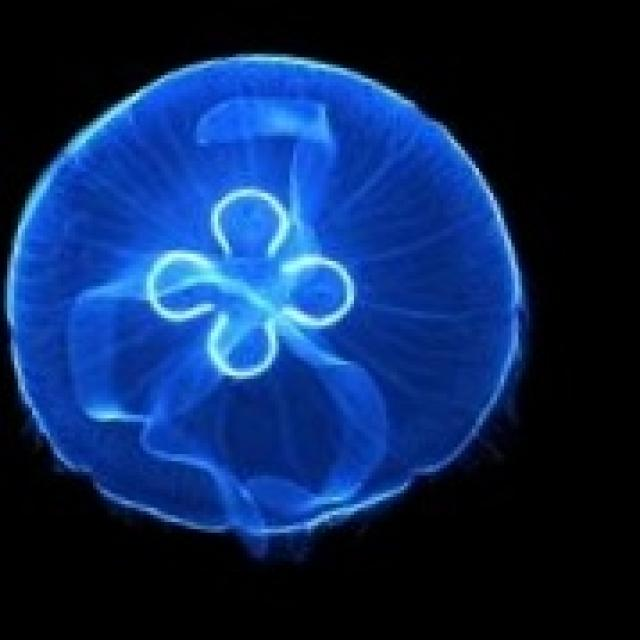Moon-jellyfish: (0, 50, 529, 558)
